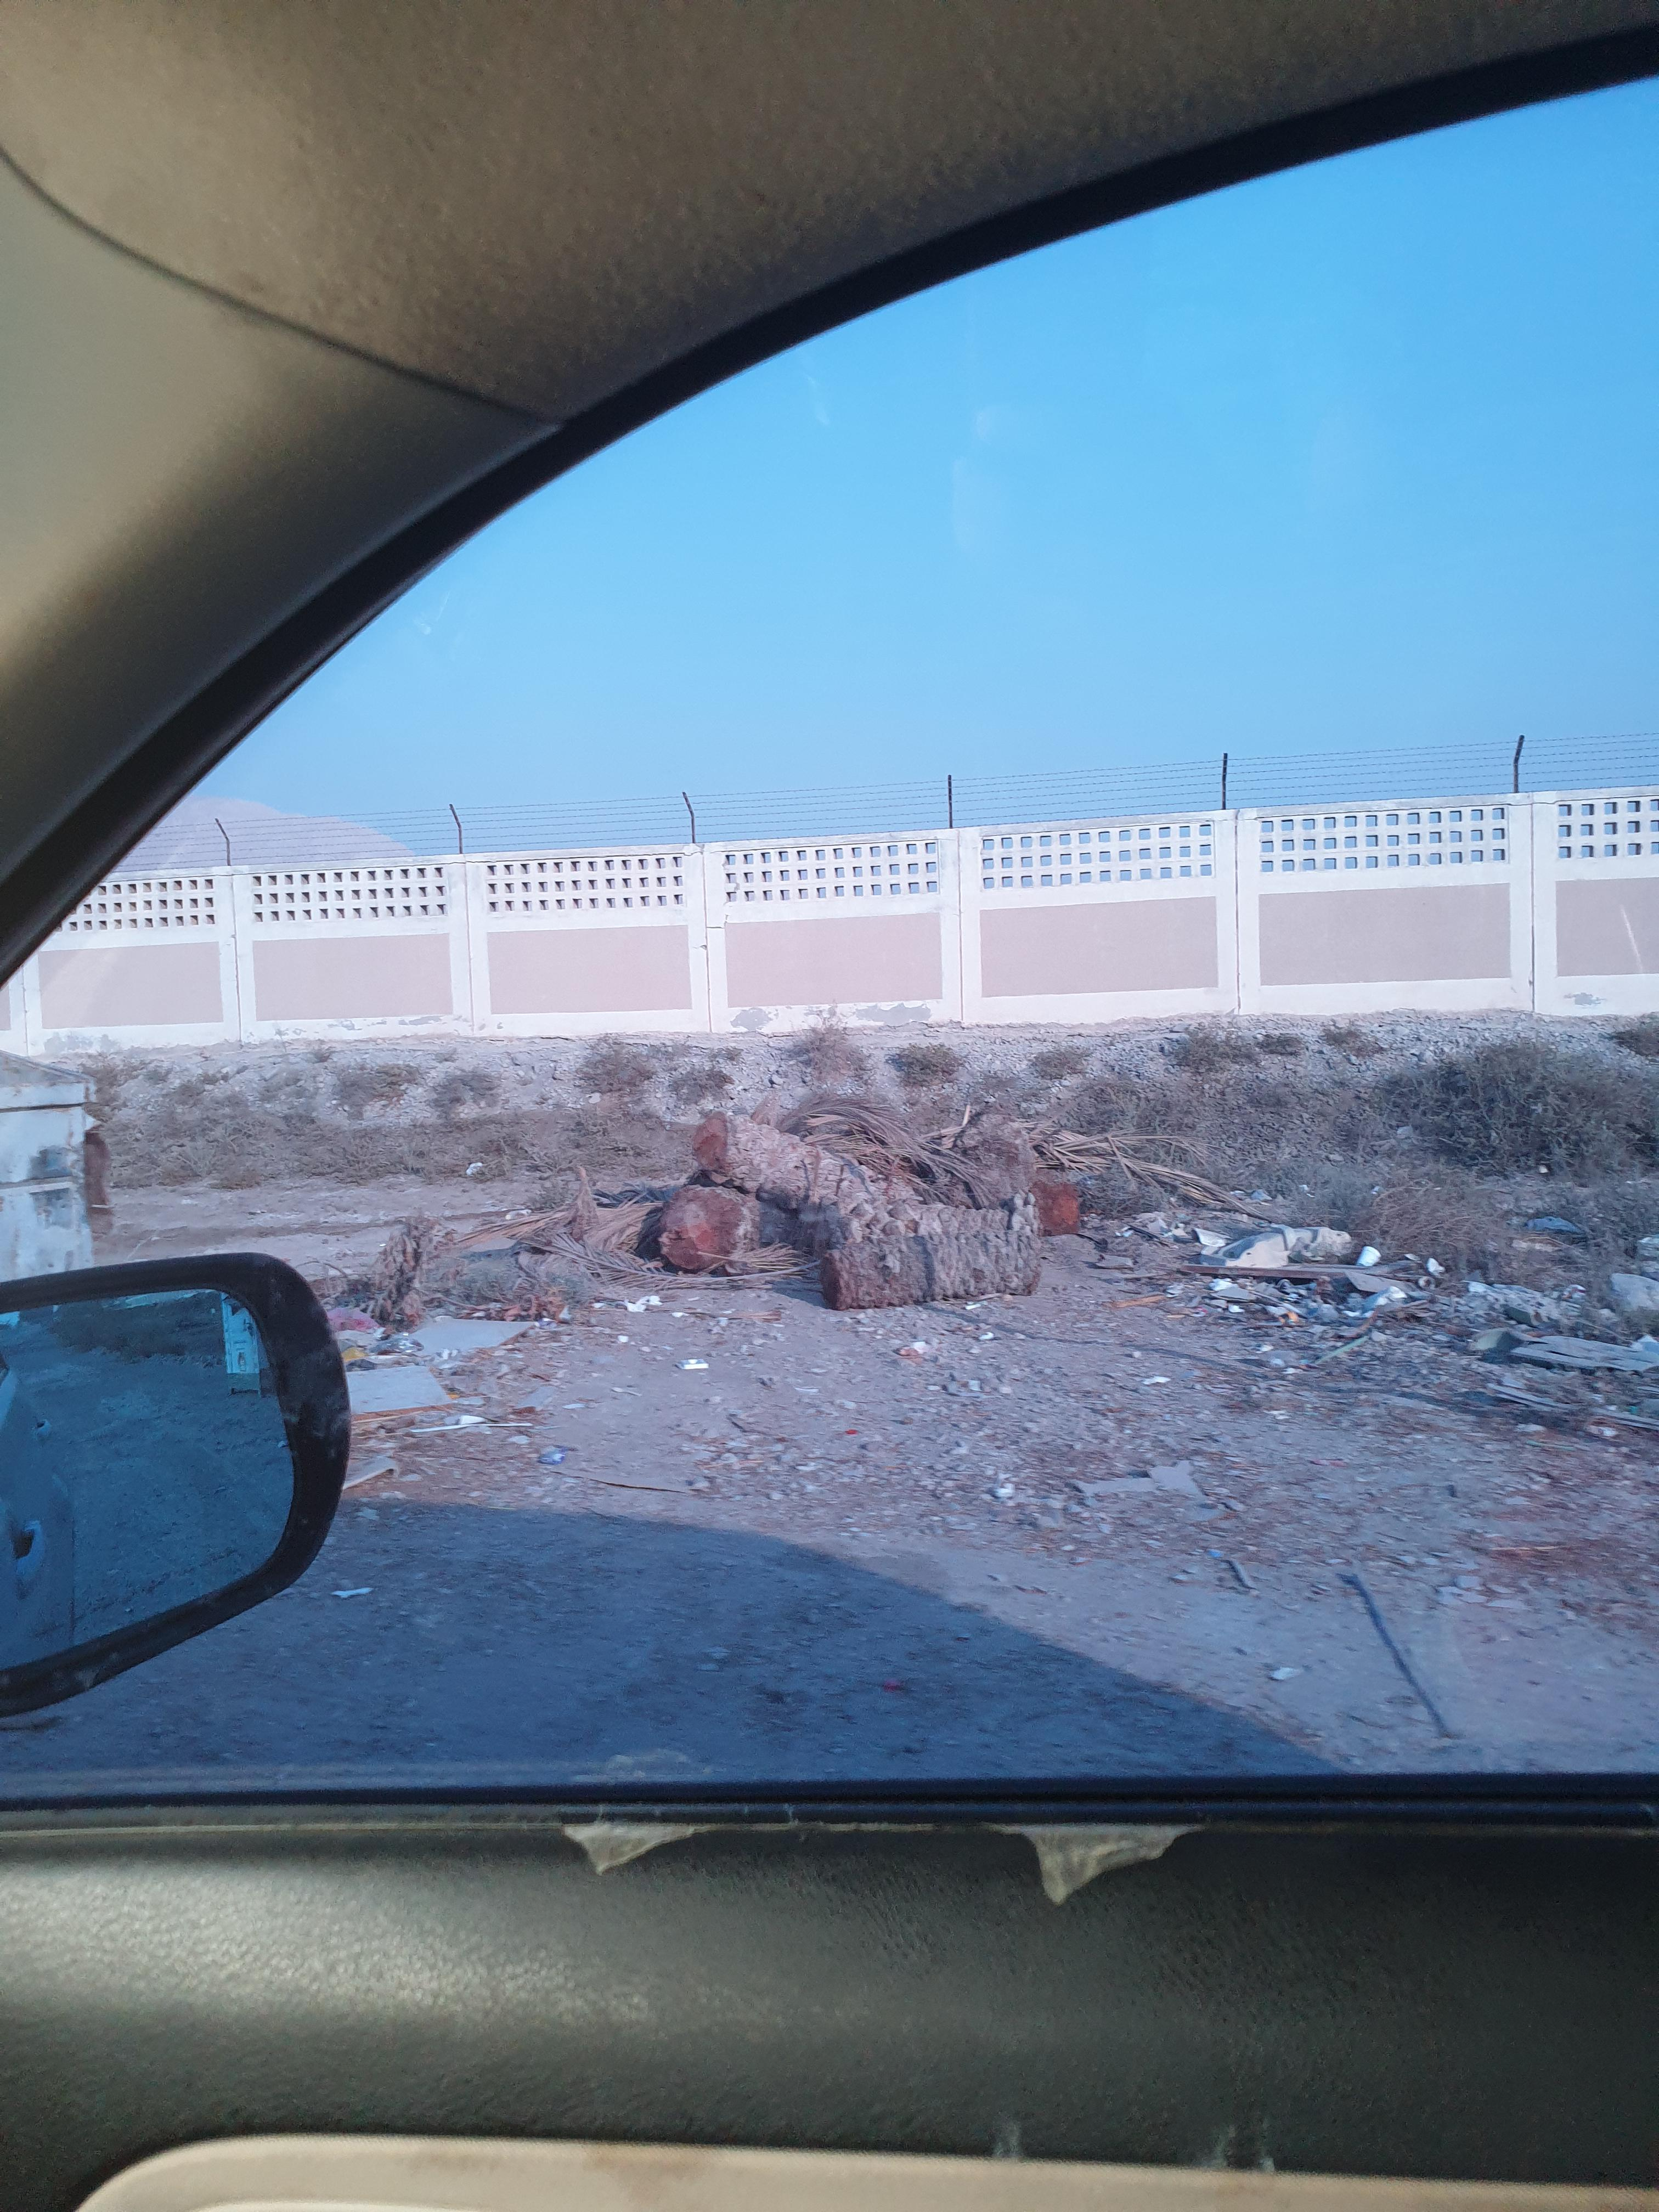fallen_trees: (666, 1085, 1129, 1348), (490, 1163, 716, 1329)
